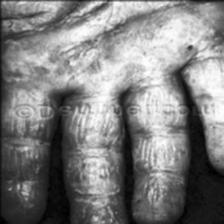Non-Cancerous Skin Condition: (10, 0, 220, 96), (64, 124, 119, 224), (136, 118, 184, 224), (0, 127, 48, 220), (206, 115, 224, 161)
